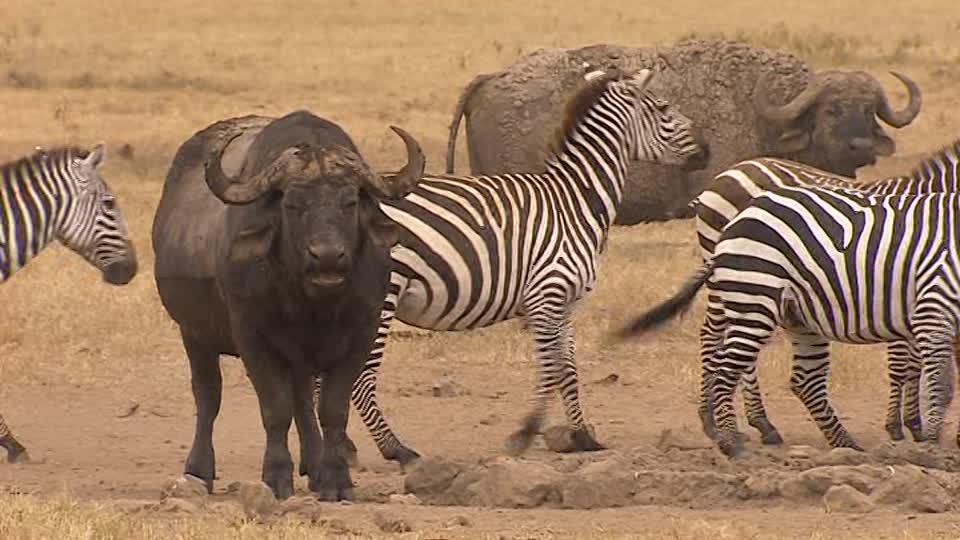Buffalo: (189, 99, 370, 524)
